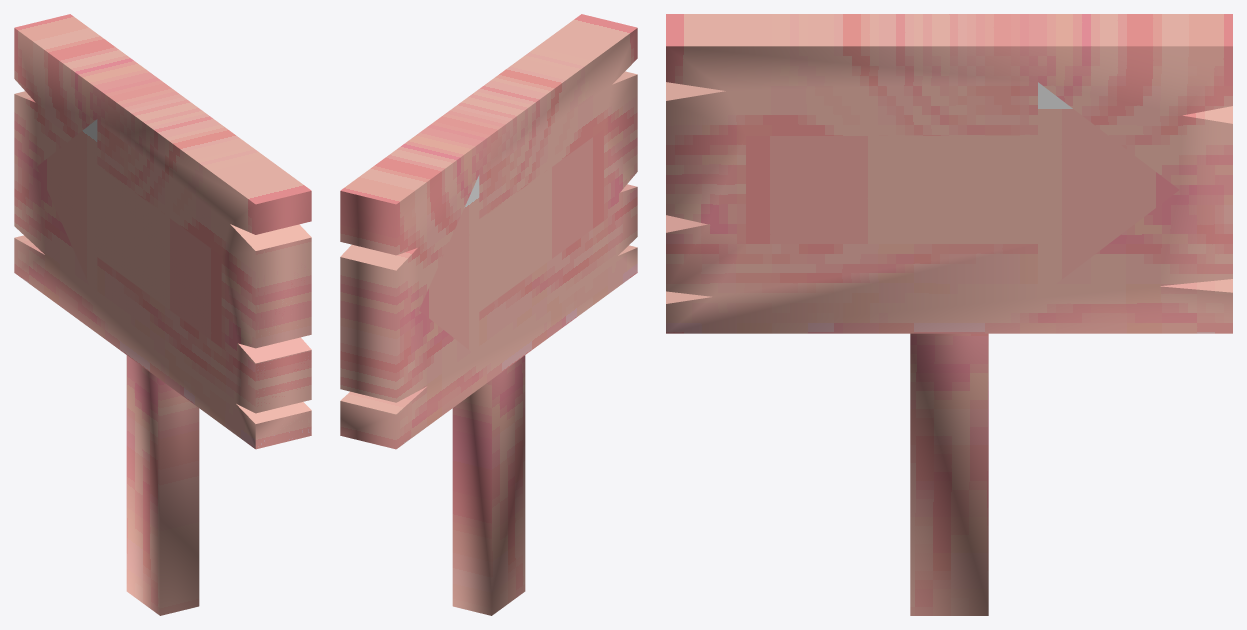
Rendered from arrow.glb.
The picture shows the model from 3 angles, left to right: view 1: azimuth 30°, elevation 25°; view 2: azimuth 150°, elevation 25°; view 3: azimuth 270°, elevation 25°; orthographic projection. The views are drawn at different scales.
Visible parts, largest first — view 1: m0; view 2: m0; view 3: m0.
Boxes of the visible parts, box(x1,y1,x2,y2) form: m0: box(14, 14, 311, 615); m0: box(340, 14, 637, 615); m0: box(666, 14, 1232, 615).
Bounding box in the file's own units: 0.4159 × 3.46 × 3.1.
2 materials, 2 textured.
